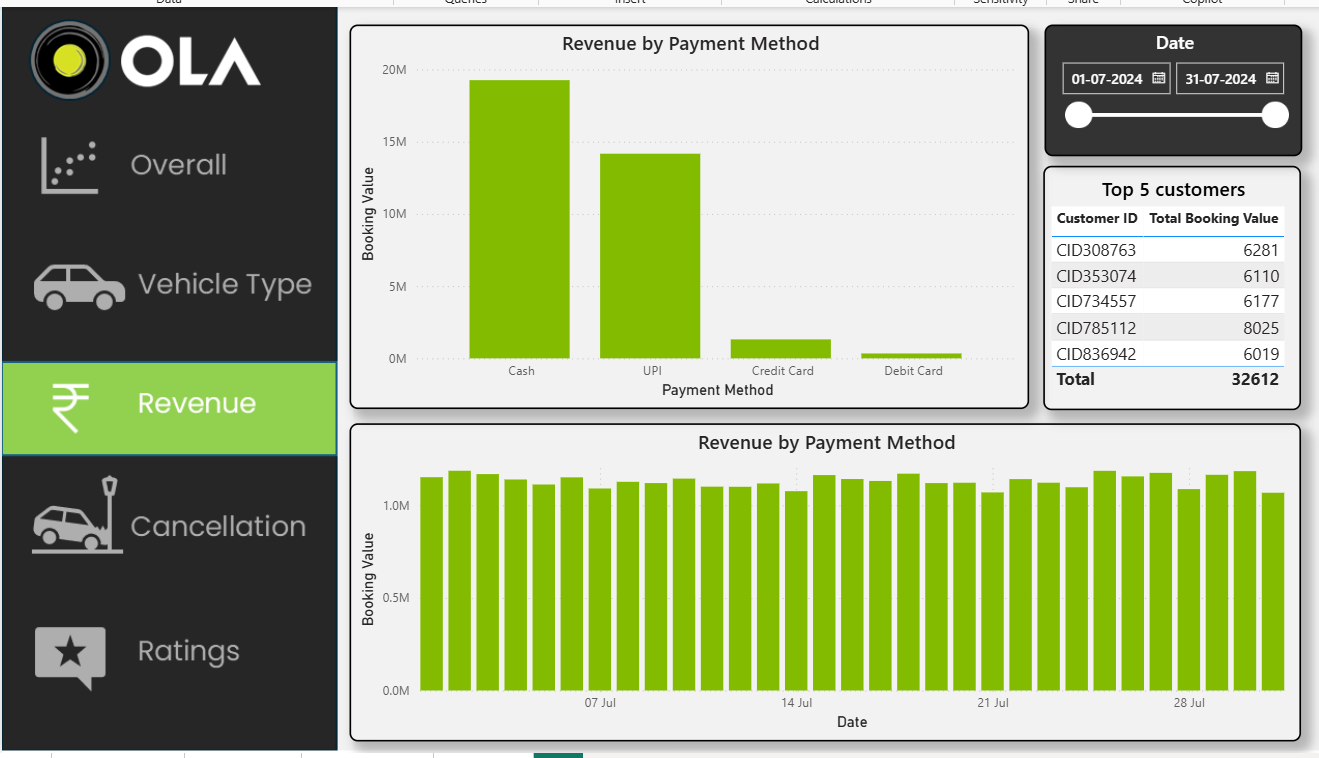

The dashboard page shown, as its layout file describes it:
{"tool":"powerbi","page":{"name":"Revevnue","canvas":[1280,720],"ordinal":2},"visuals":[{"type":"actionButton","box":[1.2,575.5,322.1,92.9],"z":0},{"type":"actionButton","box":[0,446.4,322.1,100.1],"z":1000},{"type":"actionButton","box":[0,341.4,322.1,92.9],"z":2000},{"type":"actionButton","box":[0,222,322.1,92.9],"z":3000},{"type":"actionButton","box":[0,106.2,322.1,92.9],"z":4000},{"type":"columnChart","title":"Revenue by Payment Method","fields":{"Y":["Sum(July.Booking_Value)"],"Category":["July.Payment_Method"]},"box":[335.7,17.1,655.7,371.4],"z":5000},{"type":"columnChart","title":"Revenue by Payment Method","fields":{"Y":["Sum(July.Booking_Value)"],"Category":["July.Date"]},"box":[335.7,401.4,918.6,307.1],"z":6000},{"type":"slicer","title":"Date","fields":{"Values":["July.Date"]},"box":[1005.7,17.1,248.6,127.1],"z":7000},{"type":"tableEx","title":"Top 5 customers","fields":{"Values":["July.Customer_ID","Sum(July.Booking_Value)"]},"box":[1005,152.9,248.6,235.7],"z":8000}]}

Visuals, with their boxes on the page's 1280x720 design canvas (x1, y1, x2, y2). These are canvas units, not pixel positions in the 1319x758 screenshot, which may show the page scaled, cropped or inside an application window:
actionButton: Rect(1, 576, 323, 668)
actionButton: Rect(0, 446, 322, 546)
actionButton: Rect(0, 341, 322, 434)
actionButton: Rect(0, 222, 322, 315)
actionButton: Rect(0, 106, 322, 199)
"Revenue by Payment Method" columnChart: Rect(336, 17, 991, 388)
"Revenue by Payment Method" columnChart: Rect(336, 401, 1254, 708)
"Date" slicer: Rect(1006, 17, 1254, 144)
"Top 5 customers" tableEx: Rect(1005, 153, 1254, 389)
